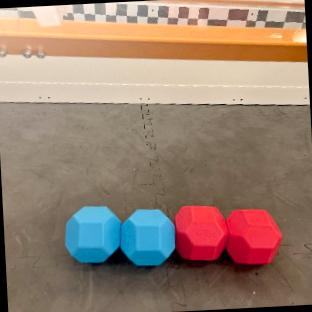V5_BLUE: (64, 206, 174, 264)
V5_RED: (174, 205, 281, 264)
